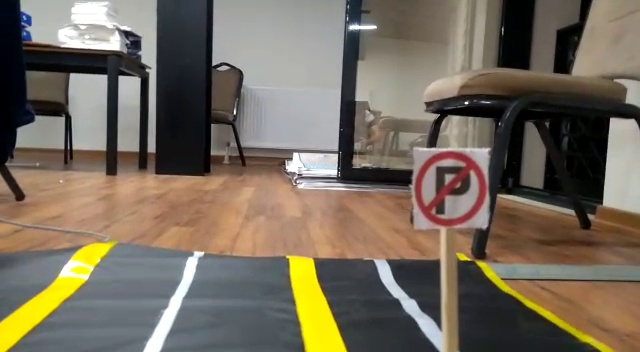park_yapilmaz: (410, 145, 495, 232)
